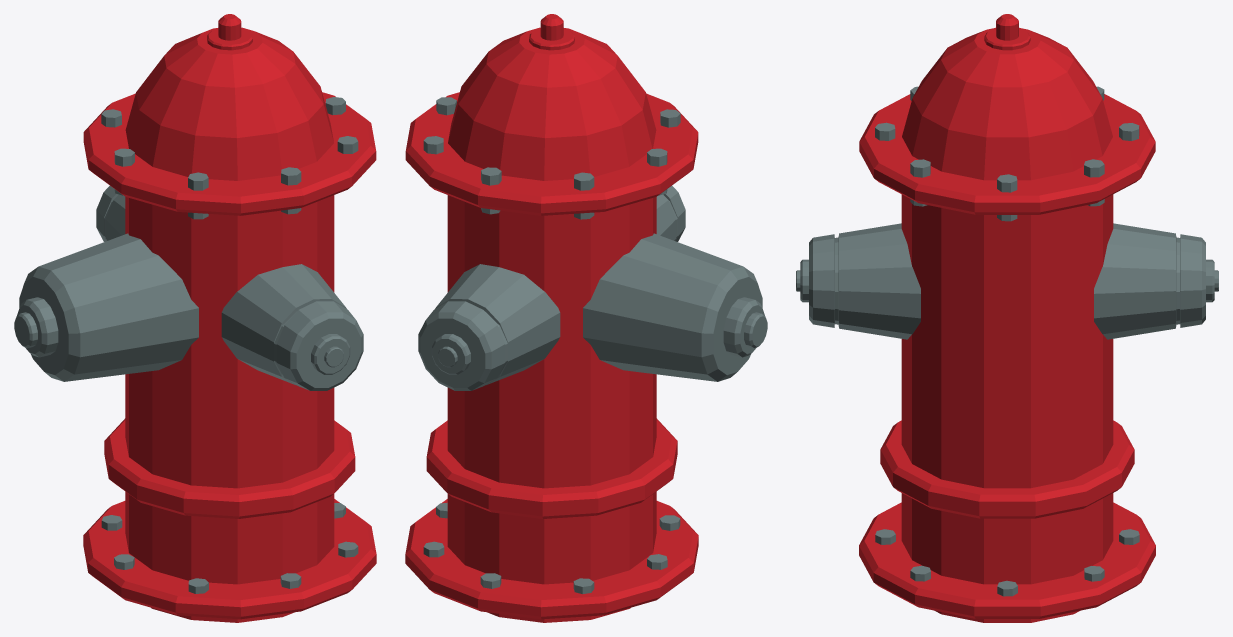
The model's file is FireHydrant.fbx.
The picture shows the model from 3 angles, left to right: view 1: azimuth 30°, elevation 25°; view 2: azimuth 150°, elevation 25°; view 3: azimuth 270°, elevation 25°; orthographic projection.
Visible parts, largest first — view 1: Hydrant, Outlets, Bolts; view 2: Hydrant, Outlets, Bolts; view 3: Hydrant, Outlets, Bolts.
Boxes of the visible parts, <box> form: Hydrant: <box>83,14,376,622</box>; Outlets: <box>14,185,363,390</box>; Bolts: <box>101,97,358,593</box>; Hydrant: <box>405,14,698,622</box>; Outlets: <box>418,185,767,390</box>; Bolts: <box>423,97,680,594</box>; Hydrant: <box>859,14,1155,622</box>; Outlets: <box>796,223,1218,339</box>; Bolts: <box>875,86,1139,596</box>.
Size of the model in its own units: 363 by 585 by 398.
